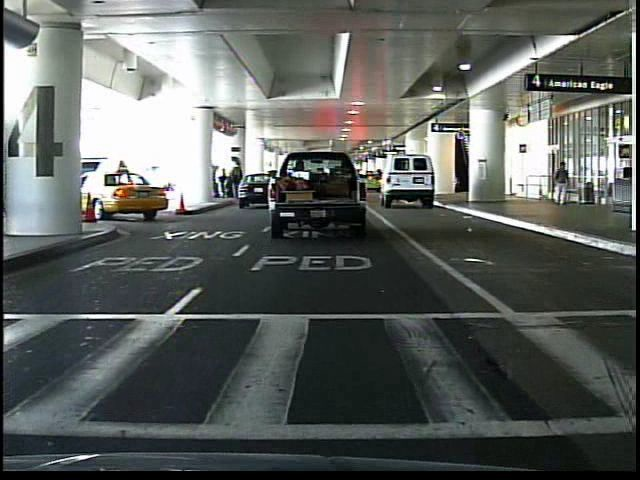person: (551, 159, 572, 210)
